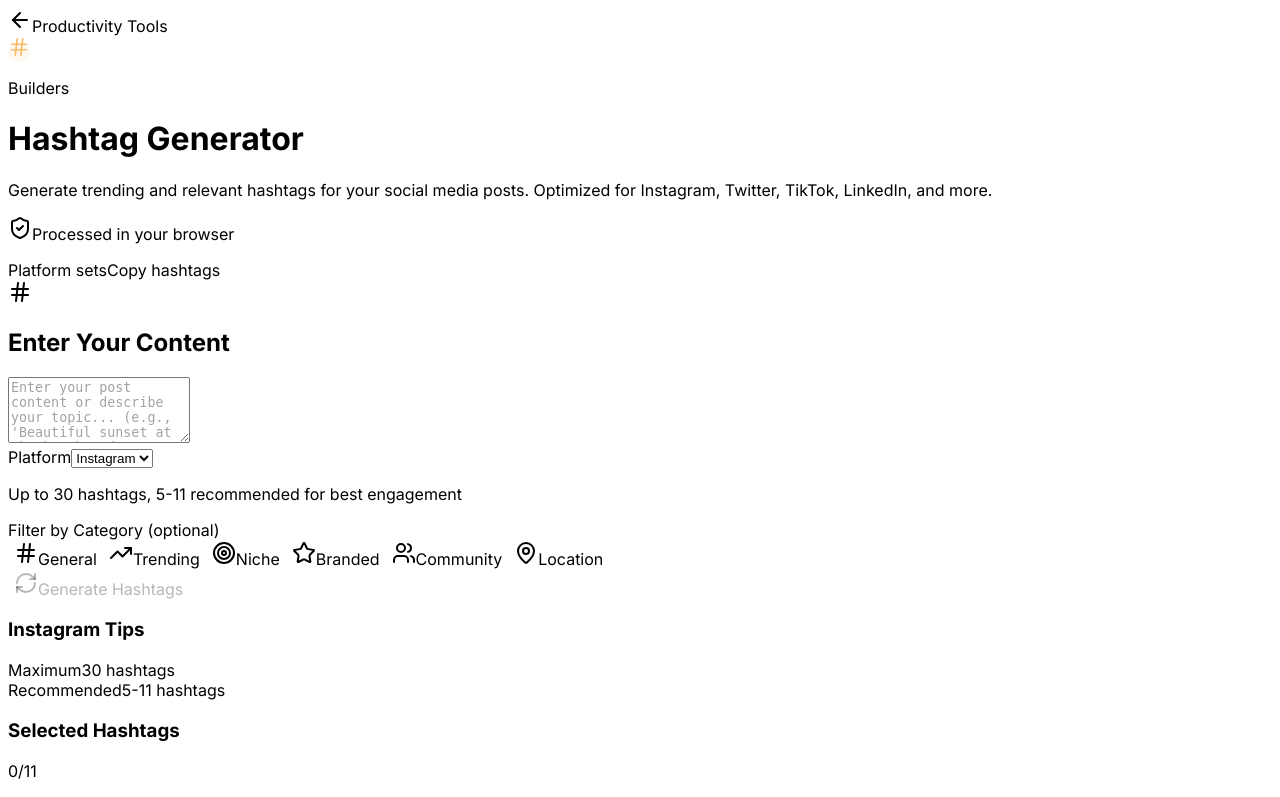
Scenario: HashtagGeneratorPage › Platform Selection › updates platform tips when platform changes
expect the heading "Instagram Tips" is shown: met, box [8,618,144,641]
expect the text "30 hashtags" is shown: met, box [82,660,175,680]
Note: Change to Twitter
Select "Twitter/X" in the dropdown. click: (112, 458)
box: [71,449,153,468]
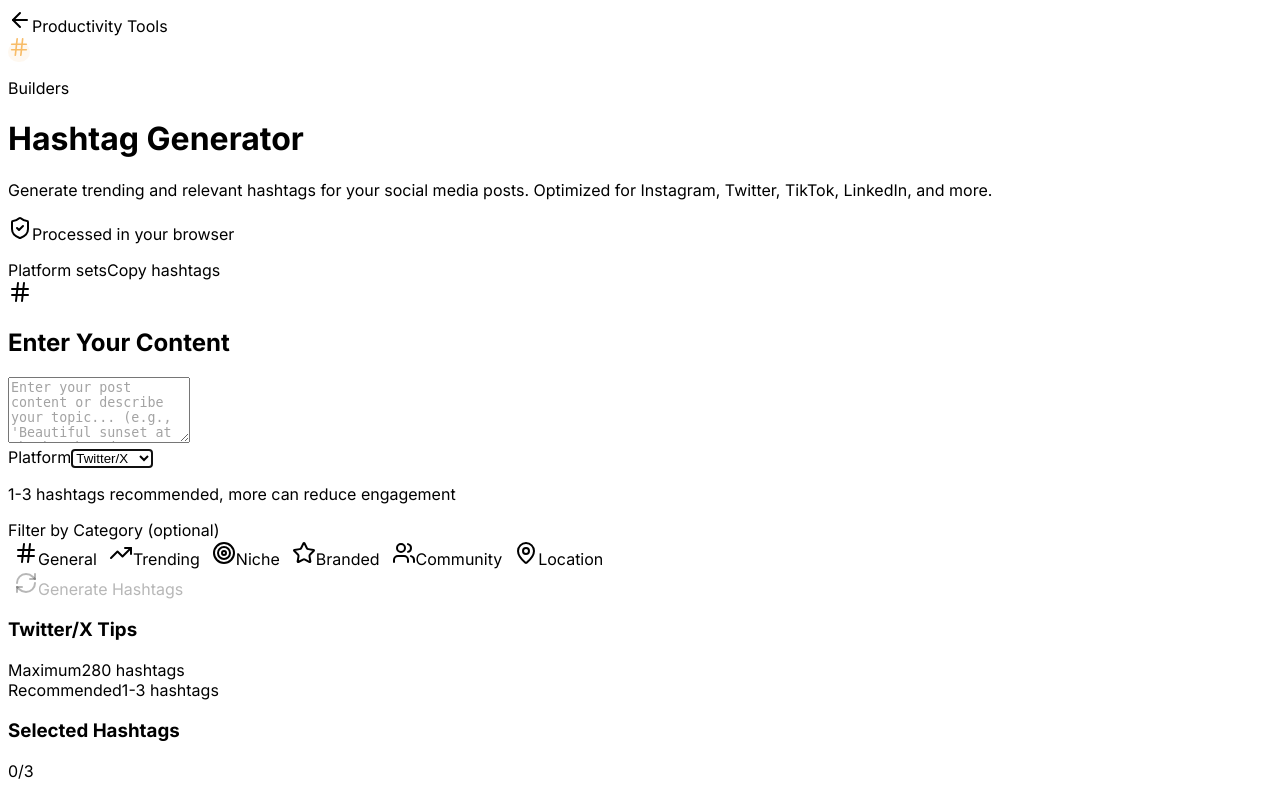
expect the heading "Twitter/X Tips" is shown: met, box [8,618,137,641]
expect the text "1-3 hashtags" is shown: met, box [122,680,219,700]
